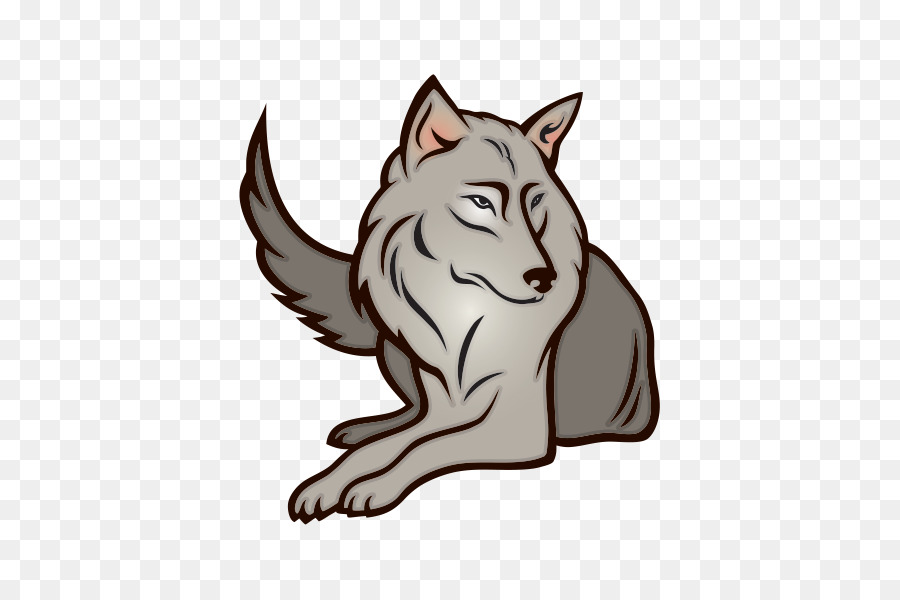Lobo: (220, 40, 686, 526)
